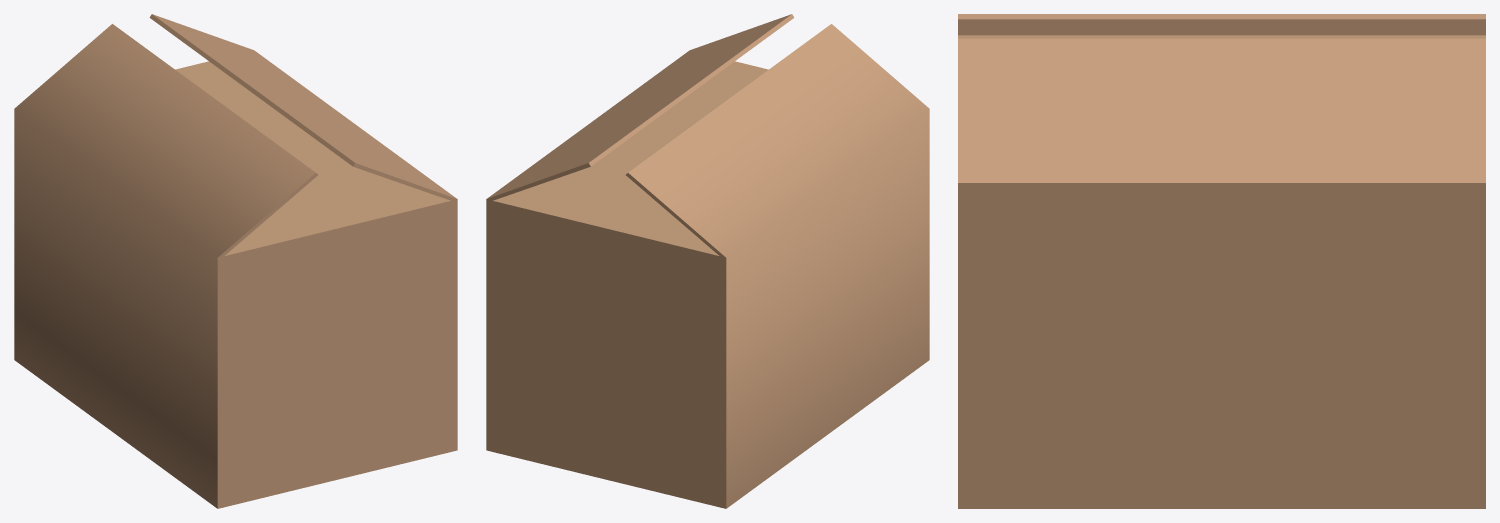
Rendered from SM_Props_Box_03.fbx.
The picture shows the model from 3 angles, left to right: view 1: azimuth 30°, elevation 25°; view 2: azimuth 150°, elevation 25°; view 3: azimuth 270°, elevation 25°; orthographic projection. The views are drawn at different scales.
Visible parts, largest first — view 1: SM_Props_Box_03; view 2: SM_Props_Box_03; view 3: SM_Props_Box_03.
Part boxes in pixels (x1,y1,x2,y2): SM_Props_Box_03: (14,14,457,508); SM_Props_Box_03: (486,14,929,508); SM_Props_Box_03: (958,14,1485,508).
Size of the model in its own units: 0.2736 by 0.3403 by 0.4017.
